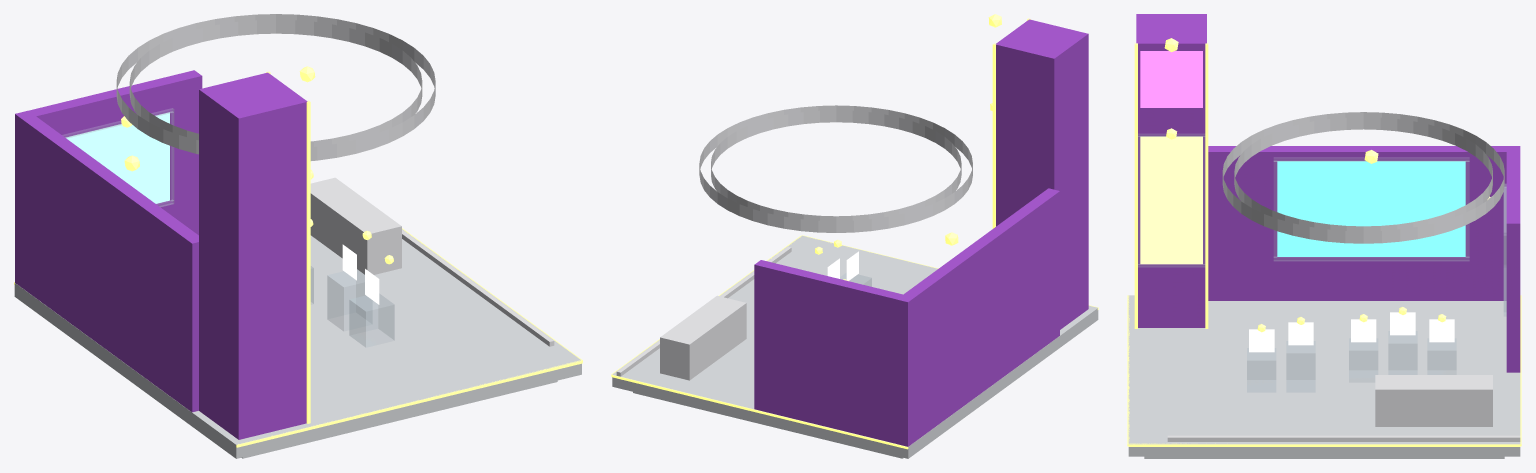
The model's file is Booth_Pro_T02.glb.
3 renders of one model, left to right at view 1: azimuth 30°, elevation 25°; view 2: azimuth 150°, elevation 25°; view 3: azimuth 270°, elevation 25°, orthographic. The views are drawn at different scales.
Parts seen in each view (by area): view 1: Booth_Pro_T02__Color__Primary, Booth_Pro_T02__Anti_gravity, Booth_Pro_T02__Color__Secondary_Ring, Booth_Pro_T02__Color__Secondary, Booth_Pro_T02__Image_02__Display, Booth_Pro_T02__Frame_003__Product, Booth_Pro_T02__Glowing_line, Booth_Pro_T02; view 2: Booth_Pro_T02__Color__Primary, Booth_Pro_T02__Anti_gravity, Booth_Pro_T02__Color__Secondary_Ring, Booth_Pro_T02__Color__Secondary, Booth_Pro_T02__Glowing_line; view 3: Booth_Pro_T02__Anti_gravity, Booth_Pro_T02__Color__Primary, Booth_Pro_T02__Video_horizon__Display, Booth_Pro_T02__Color__Secondary_Ring, Booth_Pro_T02__Color__Secondary, Booth_Pro_T02__Image_01__Display, Booth_Pro_T02__Frame_003__Product, Booth_Pro_T02__Glowing_line, Booth_Pro_T02__Logo_01__Display, Booth_Pro_T02__Frame_004__Video, Booth_Pro_T02, Booth_Pro_T02__Product_01__Display (+4 smaller).
Boxes of the visible parts, left/top/right/bottom form: Booth_Pro_T02__Color__Primary: left=15, top=70, right=307, bottom=439; Booth_Pro_T02__Anti_gravity: left=14, top=229, right=581, bottom=458; Booth_Pro_T02__Color__Secondary_Ring: left=116, top=14, right=435, bottom=160; Booth_Pro_T02__Color__Secondary: left=310, top=177, right=554, bottom=346; Booth_Pro_T02__Image_02__Display: left=66, top=112, right=169, bottom=203; Booth_Pro_T02__Frame_003__Product: left=311, top=266, right=394, bottom=347; Booth_Pro_T02__Glowing_line: left=14, top=71, right=582, bottom=447; Booth_Pro_T02: left=62, top=66, right=393, bottom=264; Booth_Pro_T02__Color__Primary: left=754, top=19, right=1088, bottom=446; Booth_Pro_T02__Anti_gravity: left=612, top=235, right=1098, bottom=458; Booth_Pro_T02__Color__Secondary_Ring: left=699, top=105, right=972, bottom=232; Booth_Pro_T02__Color__Secondary: left=616, top=246, right=791, bottom=380; Booth_Pro_T02__Glowing_line: left=611, top=18, right=1098, bottom=449; Booth_Pro_T02__Anti_gravity: left=1128, top=295, right=1520, bottom=458; Booth_Pro_T02__Color__Primary: left=1136, top=14, right=1520, bottom=372; Booth_Pro_T02__Video_horizon__Display: left=1277, top=161, right=1465, bottom=256; Booth_Pro_T02__Color__Secondary_Ring: left=1222, top=112, right=1504, bottom=243; Booth_Pro_T02__Color__Secondary: left=1167, top=375, right=1520, bottom=441; Booth_Pro_T02__Image_01__Display: left=1140, top=136, right=1202, bottom=264; Booth_Pro_T02__Frame_003__Product: left=1247, top=331, right=1456, bottom=392; Booth_Pro_T02__Glowing_line: left=1127, top=43, right=1521, bottom=446; Booth_Pro_T02__Logo_01__Display: left=1140, top=51, right=1202, bottom=107; Booth_Pro_T02__Frame_004__Video: left=1273, top=157, right=1469, bottom=260; Booth_Pro_T02: left=1138, top=38, right=1506, bottom=332; Booth_Pro_T02__Product_01__Display: left=1249, top=329, right=1274, bottom=352.
Size of the model in its own units: 9.03 by 9 by 10.06.
